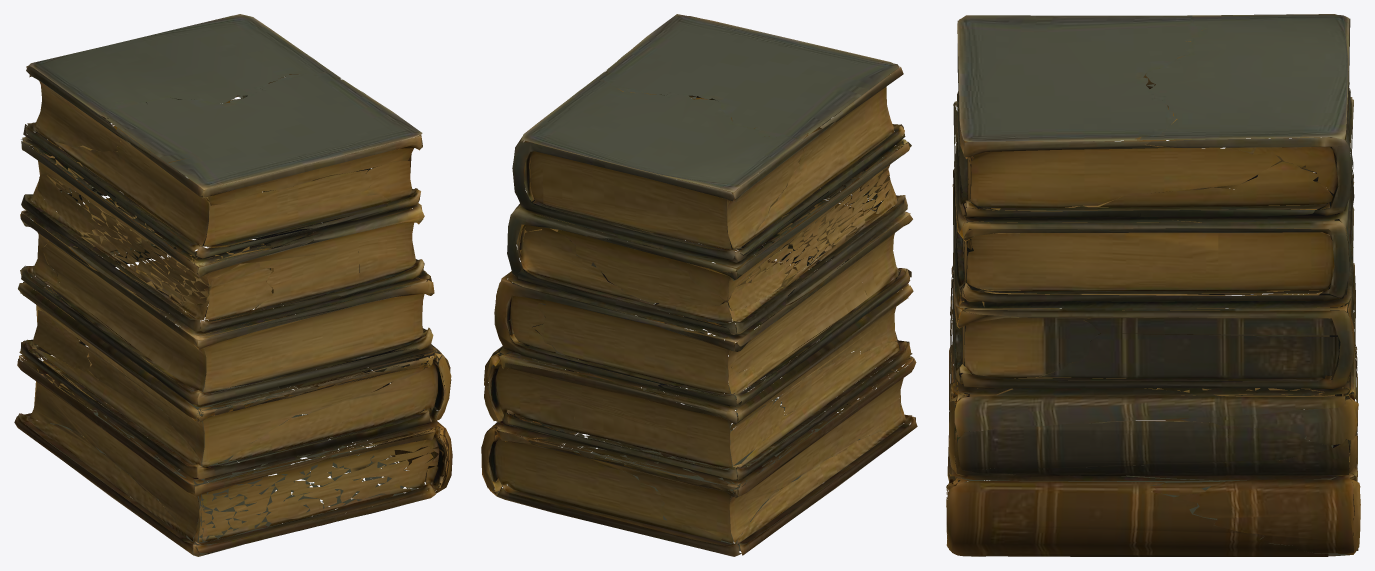
The model's file is books_lod0.glb.
3 views of the same model, side by side, from view 1: azimuth 30°, elevation 25°; view 2: azimuth 150°, elevation 25°; view 3: azimuth 270°, elevation 25° (orthographic). The views are drawn at different scales.
Parts seen in each view (by area): view 1: node_0; view 2: node_0; view 3: node_0.
Boxes of the visible parts, bbox=[...] form: node_0: bbox=[14, 14, 452, 556]; node_0: bbox=[481, 14, 917, 556]; node_0: bbox=[946, 14, 1360, 556].
Size of the model in its own units: 0.7537 by 1 by 0.9073.
1 material, 1 textured.
